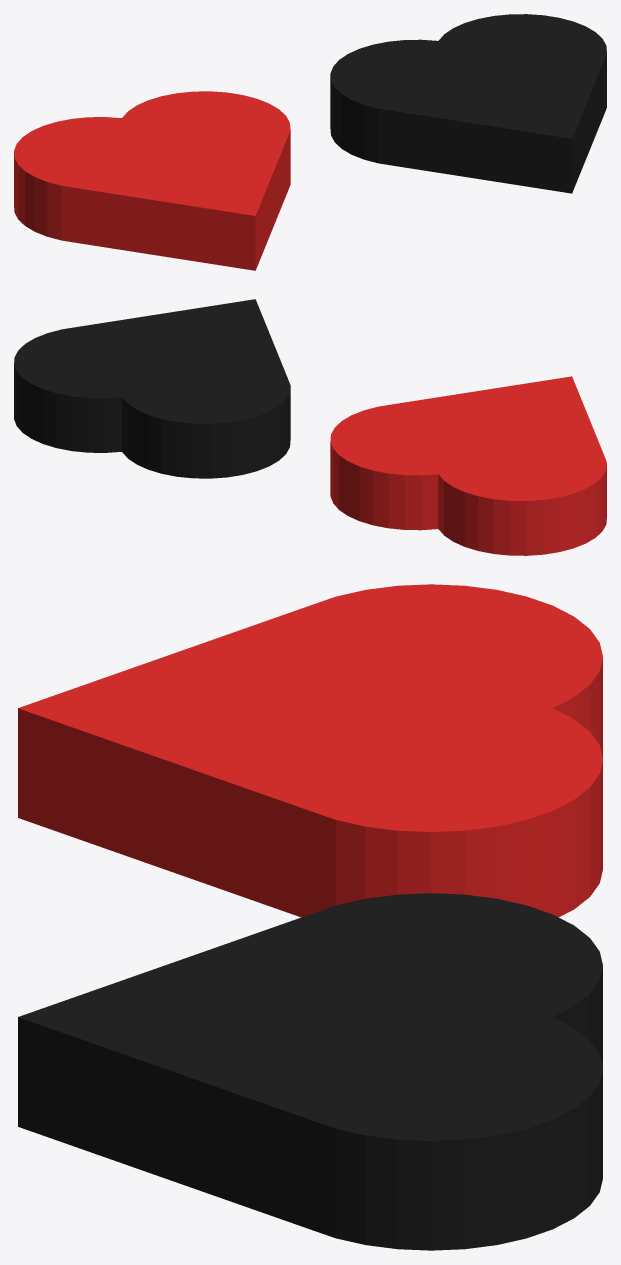
Rendered from heart.fbx.
3 views of the same model, one above another, from view 1: azimuth 30°, elevation 25°; view 2: azimuth 150°, elevation 25°; view 3: azimuth 270°, elevation 25° (orthographic). The views are drawn at different scales.
Visible parts, largest first — view 1: Cube, Cube.001; view 2: Cube.001, Cube; view 3: Cube.001, Cube.
Part boxes in pixels (box(x1,y1,x2,y2)): Cube: box(14, 91, 290, 270); Cube.001: box(330, 14, 606, 193); Cube.001: box(14, 299, 290, 478); Cube: box(330, 376, 606, 555); Cube.001: box(18, 893, 602, 1250); Cube: box(18, 584, 602, 917).
Bounding box in the file's own units: 767 × 70.44 × 341.
